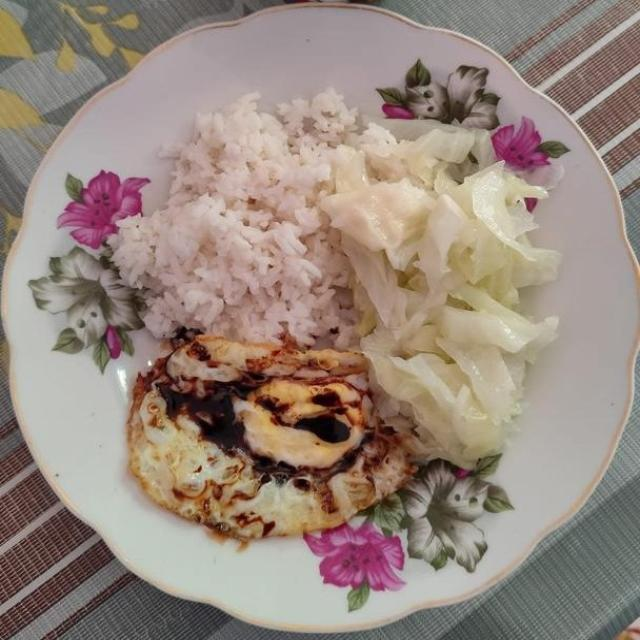Egg: (129, 338, 417, 537)
Plate: (560, 115, 564, 119)
Rice: (103, 88, 386, 351)
Vegetables: (321, 130, 565, 479)
